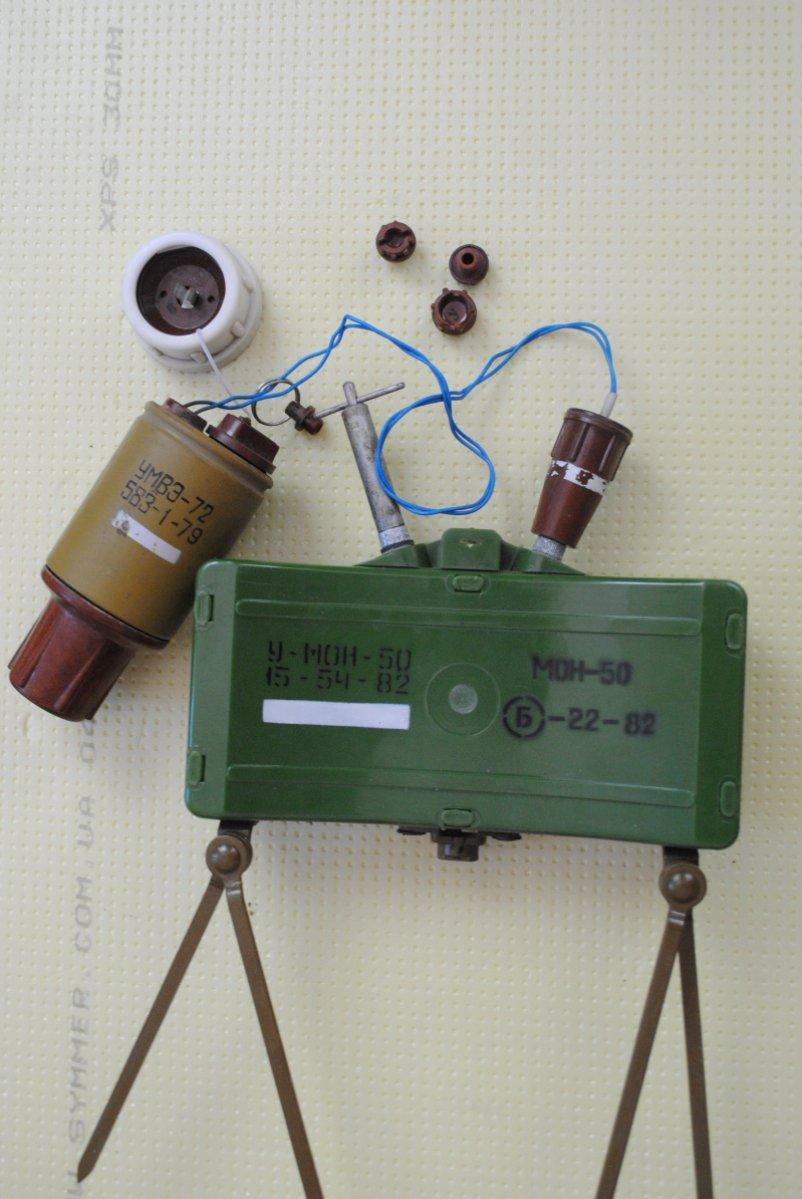MON 50: (179, 525, 745, 905)
